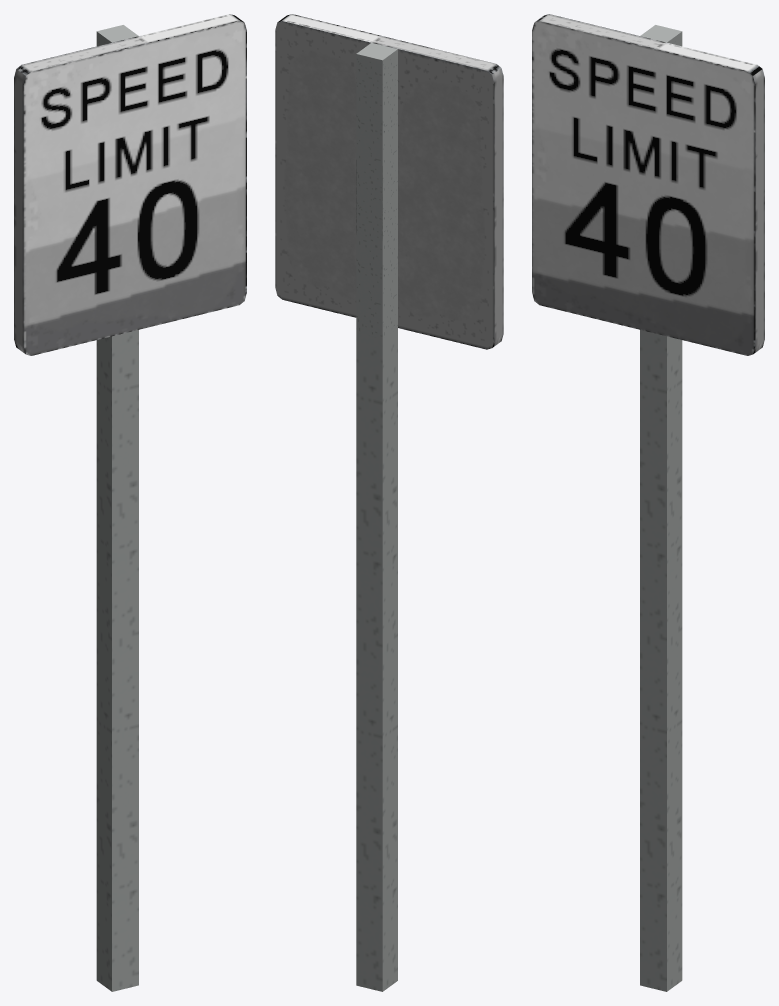
The model's file is SpeedLimitSign.fbx.
3 renders of one model, left to right at view 1: azimuth 30°, elevation 25°; view 2: azimuth 150°, elevation 25°; view 3: azimuth 330°, elevation 25°, orthographic.
Visible parts, largest first — view 1: pCube1; view 2: pCube1; view 3: pCube1.
Part boxes in pixels (left/top/right/bottom): pCube1: left=14, top=14, right=246, bottom=991; pCube1: left=275, top=14, right=503, bottom=991; pCube1: left=532, top=14, right=764, bottom=991.
Size of the model in its own units: 134 by 543 by 26.27.
